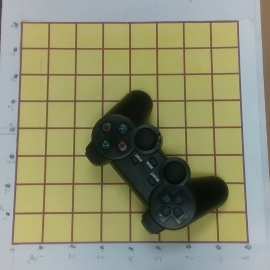remote: (86, 89, 229, 236)
